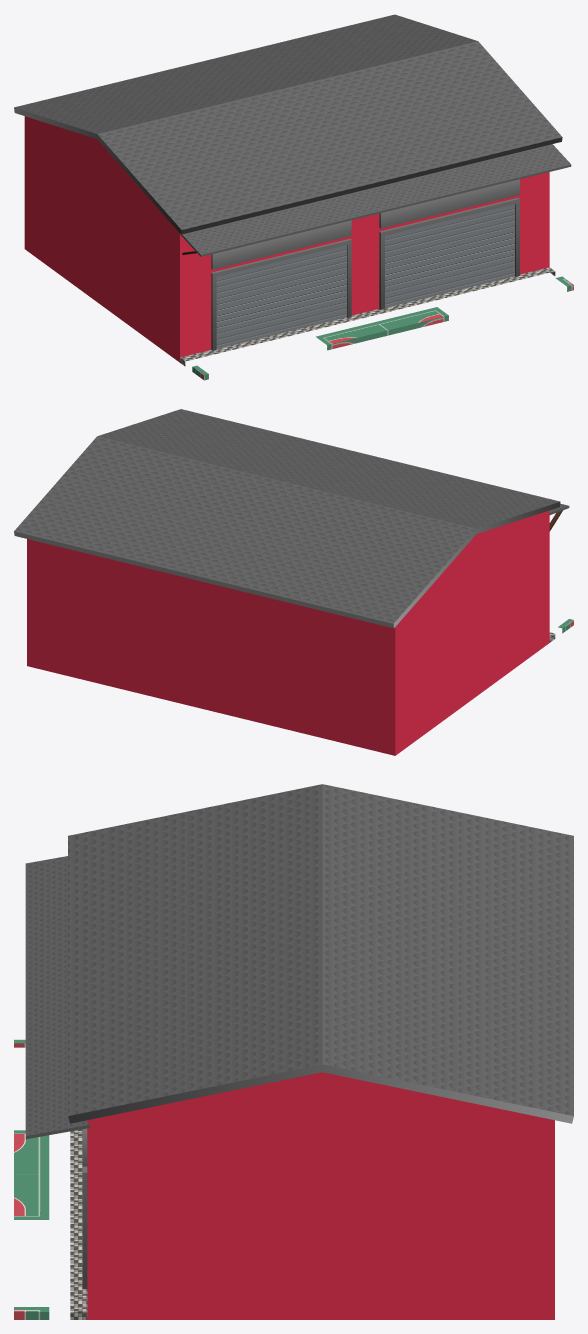
File: RukoKecil1.fbx
The picture shows the model from 3 angles, top to bottom: view 1: azimuth 30°, elevation 25°; view 2: azimuth 150°, elevation 25°; view 3: azimuth 270°, elevation 25°; orthographic projection. The views are drawn at different scales.
Parts seen in each view (by area): view 1: RukoKecil1_LOD0; view 2: RukoKecil1_LOD0; view 3: RukoKecil1_LOD0.
Boxes of the visible parts, x1,y1,x2,y2 form: RukoKecil1_LOD0: (14,14,573,380); RukoKecil1_LOD0: (14,409,573,755); RukoKecil1_LOD0: (14,784,573,1319).
Size of what is drawn, in the model's own units: 1098 by 475 by 927.
